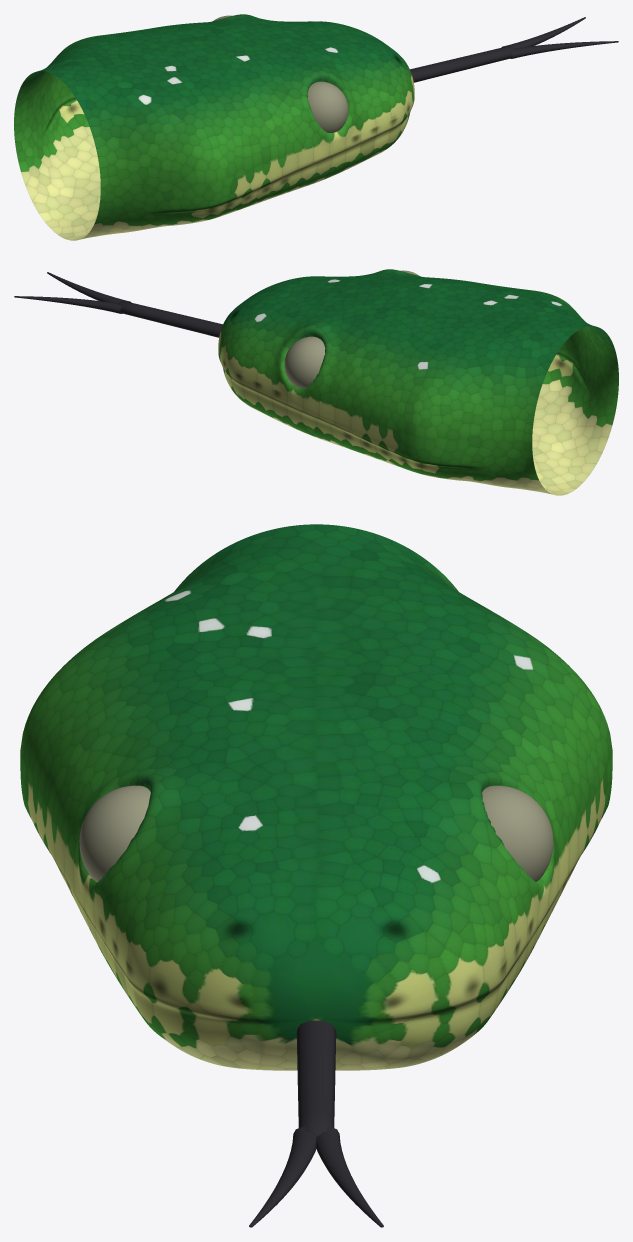
File: python.glb
3 views of the same model, one above another, from view 1: azimuth 30°, elevation 25°; view 2: azimuth 150°, elevation 25°; view 3: azimuth 270°, elevation 25° (orthographic). The views are drawn at different scales.
Visible parts, largest first — view 1: python_head, python_tongue, python_eye_R; view 2: python_head, python_tongue, python_eye_L; view 3: python_head, python_tongue, python_eye_L, python_eye_R.
Boxes of the visible parts, x1=… form: python_head: x1=14, y1=14, x2=414, y2=240; python_tongue: x1=410, y1=17, x2=618, y2=82; python_eye_R: x1=307, y1=81, x2=348, y2=132; python_head: x1=218, y1=269, x2=618, y2=495; python_tongue: x1=14, y1=272, x2=222, y2=337; python_eye_L: x1=284, y1=336, x2=325, y2=388; python_head: x1=20, y1=524, x2=612, y2=1070; python_tongue: x1=249, y1=1020, x2=383, y2=1227; python_eye_L: x1=482, y1=785, x2=553, y2=881; python_eye_R: x1=79, y1=785, x2=150, y2=881.
Bounding box in the file's own units: 0.0885 × 0.0244 × 0.0416.
Materials: 3 (1 with a texture image).
